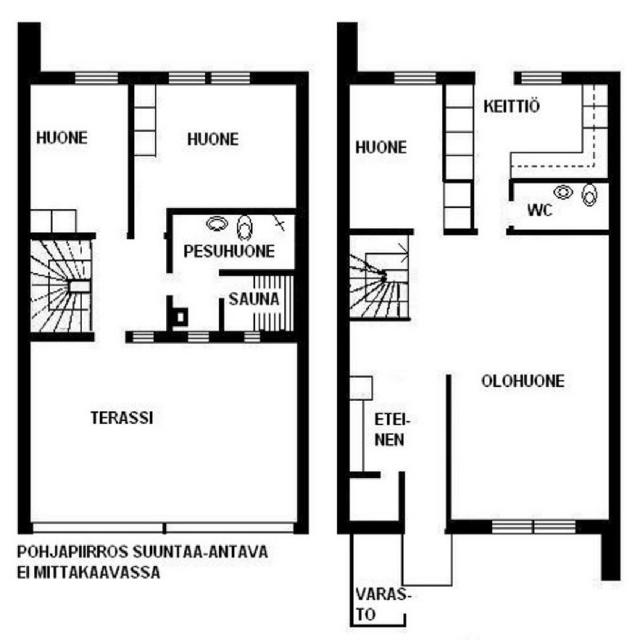door: (501, 197, 523, 230)
window: (486, 512, 584, 540), (513, 66, 569, 88), (386, 66, 442, 88), (68, 66, 124, 87), (162, 66, 210, 88), (207, 67, 255, 87), (124, 326, 160, 345), (183, 330, 212, 345), (240, 330, 264, 344)
zone: (444, 230, 615, 525), (132, 79, 302, 213), (344, 77, 455, 233), (446, 79, 613, 181), (24, 79, 132, 233), (342, 323, 450, 474), (168, 212, 300, 272), (509, 178, 615, 232), (346, 233, 410, 318), (350, 531, 403, 630), (223, 270, 298, 336), (344, 471, 403, 522)
